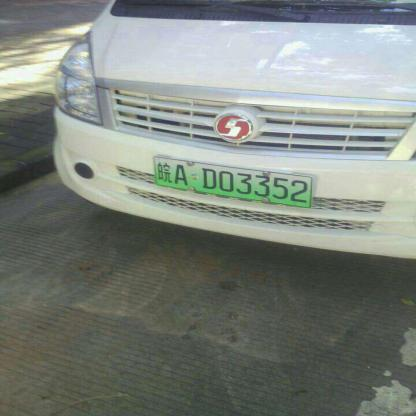lp: (154, 156, 311, 207)
